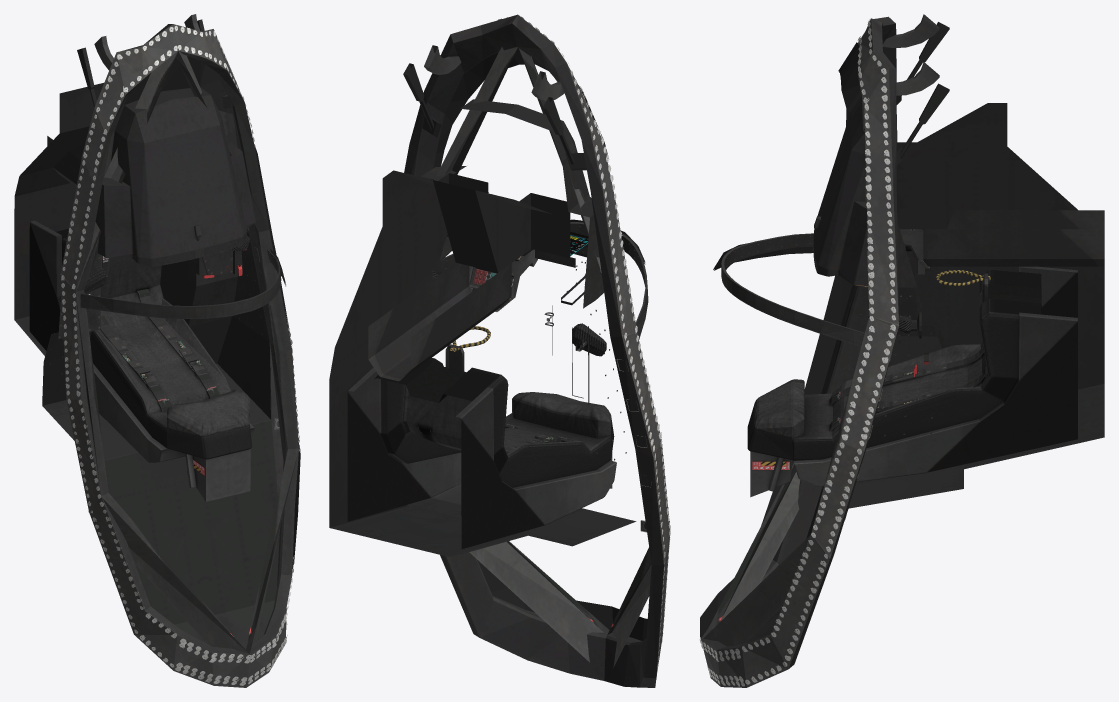
File: cockpit.obj
3 views of the same model, side by side, from view 1: azimuth 30°, elevation 25°; view 2: azimuth 150°, elevation 25°; view 3: azimuth 270°, elevation 25° (orthographic). The views are drawn at different scales.
Visible parts, largest first — view 1: Mesh_0335.005; view 2: Mesh_0335.005; view 3: Mesh_0335.005.
Part boxes in pixels (x1,y1,x2,y2): Mesh_0335.005: (14,14,300,687); Mesh_0335.005: (329,14,670,687); Mesh_0335.005: (699,14,1104,687).
Bounding box in the file's own units: 25.55 × 67.77 × 37.67.
